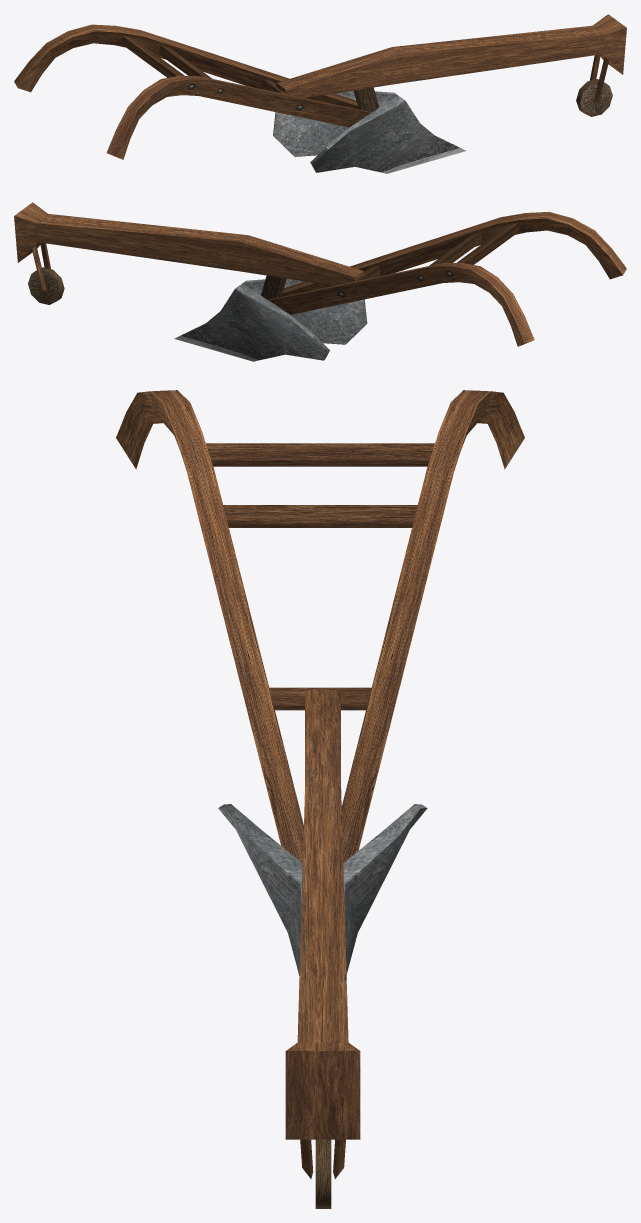
The model's file is mm9_deco_farmerplow.glb.
3 renders of one model, top to bottom at view 1: azimuth 30°, elevation 25°; view 2: azimuth 150°, elevation 25°; view 3: azimuth 270°, elevation 25°, orthographic. The views are drawn at different scales.
Visible parts, largest first — view 1: Farmerplow; view 2: Farmerplow; view 3: Farmerplow.
Boxes of the visible parts, left/top/right/bottom form: Farmerplow: left=14, top=14, right=626, bottom=173; Farmerplow: left=14, top=202, right=626, bottom=361; Farmerplow: left=116, top=390, right=524, bottom=1208.
Bounding box in the file's own units: 3.51 × 1.08 × 1.12.
2 materials, 2 textured.
